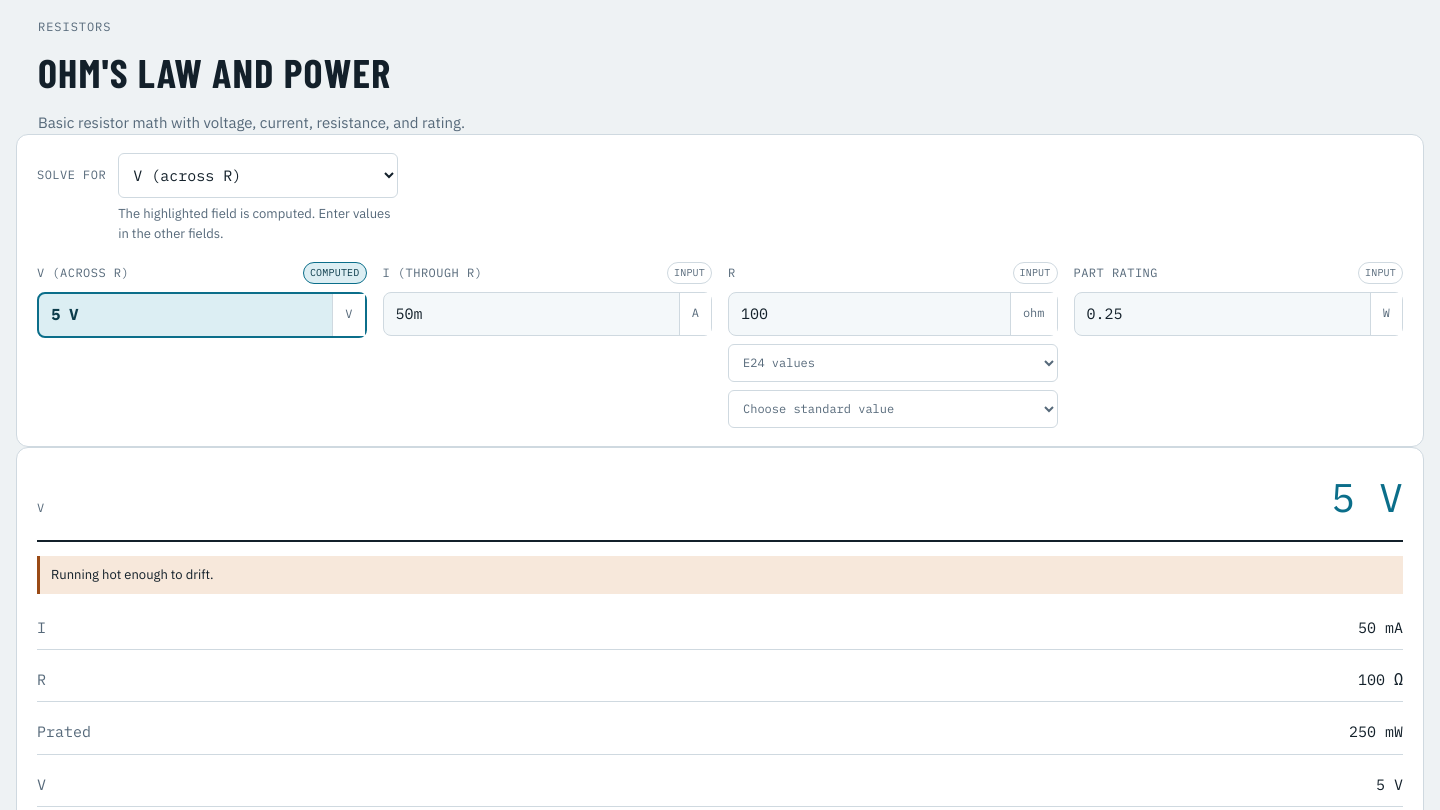
Test: OhmView › re-solves when R changes
Replace the text in the field labelled "R" with "200": (869, 314) [729,293,1010,335]
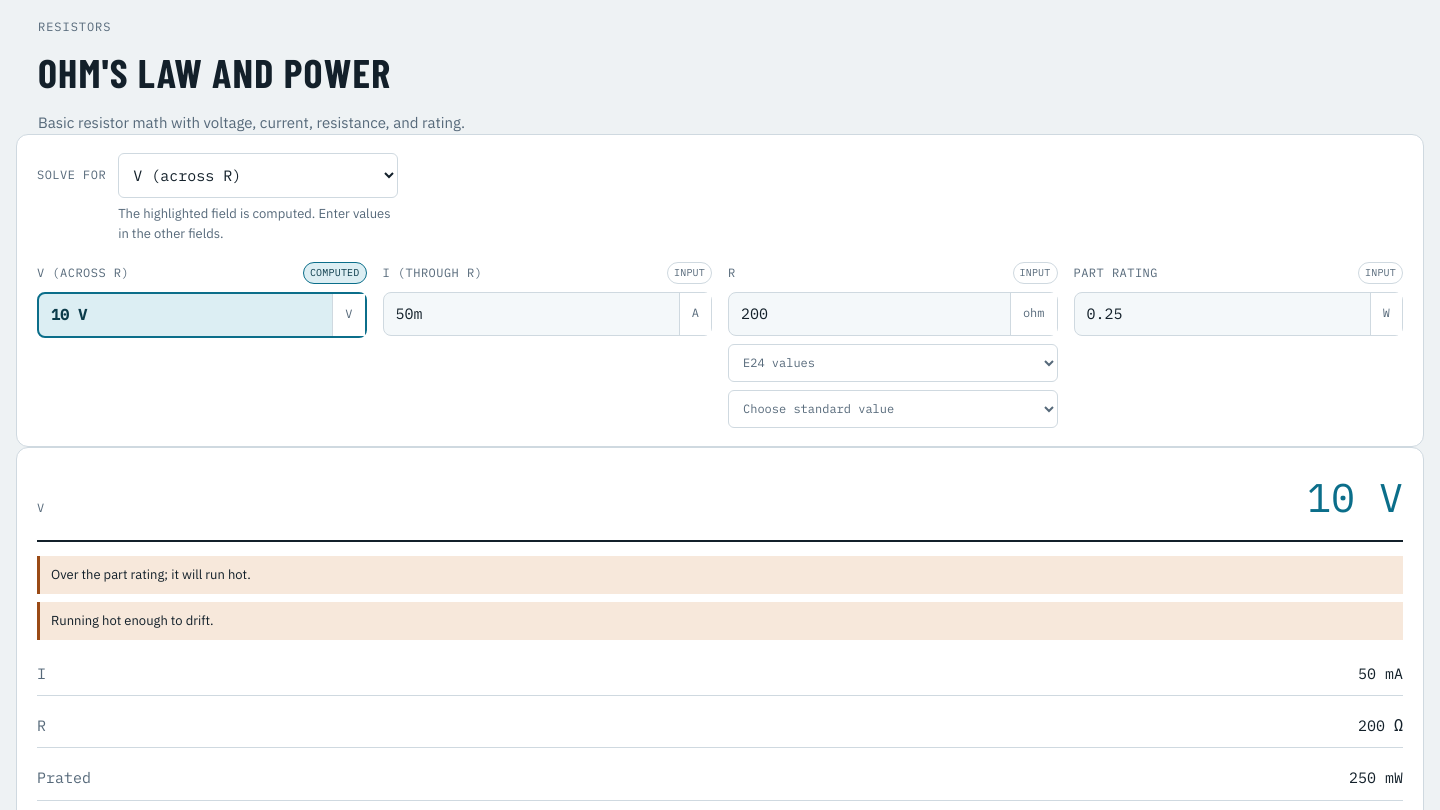
Check: the text "10 V" is shown, box [1307,466,1403,528]
